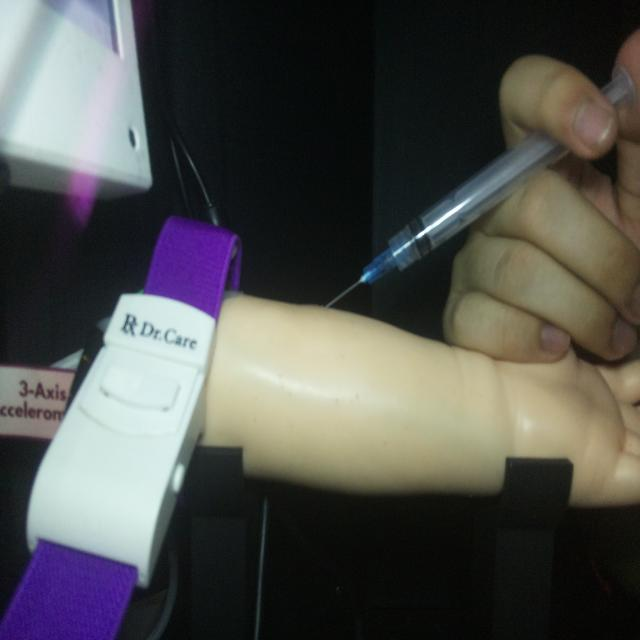29 degrees: (325, 62, 635, 308)
